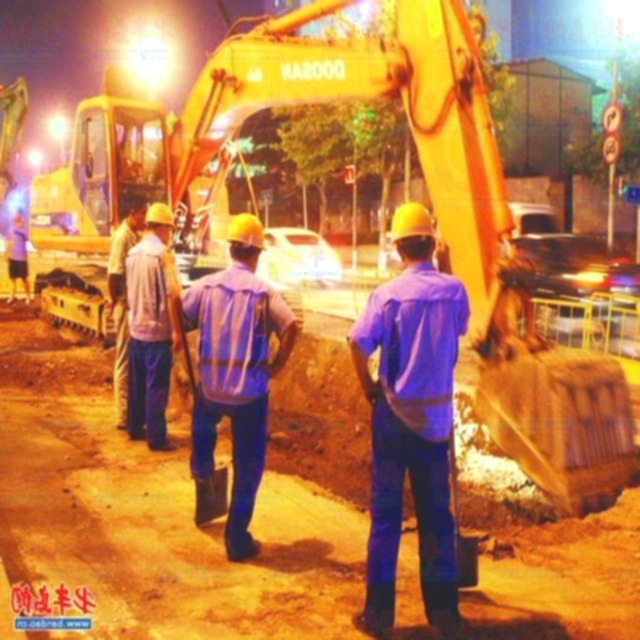Con_Casco: (391, 203, 433, 268), (228, 210, 264, 267)
Sin_Chaleco: (368, 273, 459, 450), (192, 275, 267, 405)
